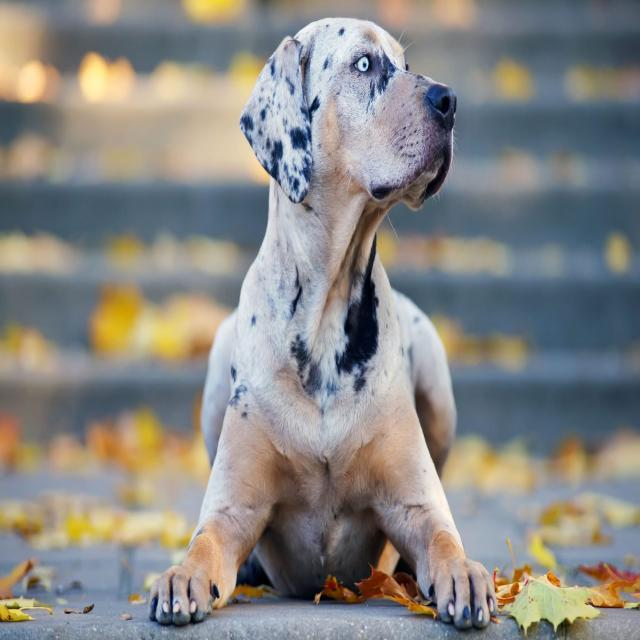Dog: (142, 6, 500, 636)
